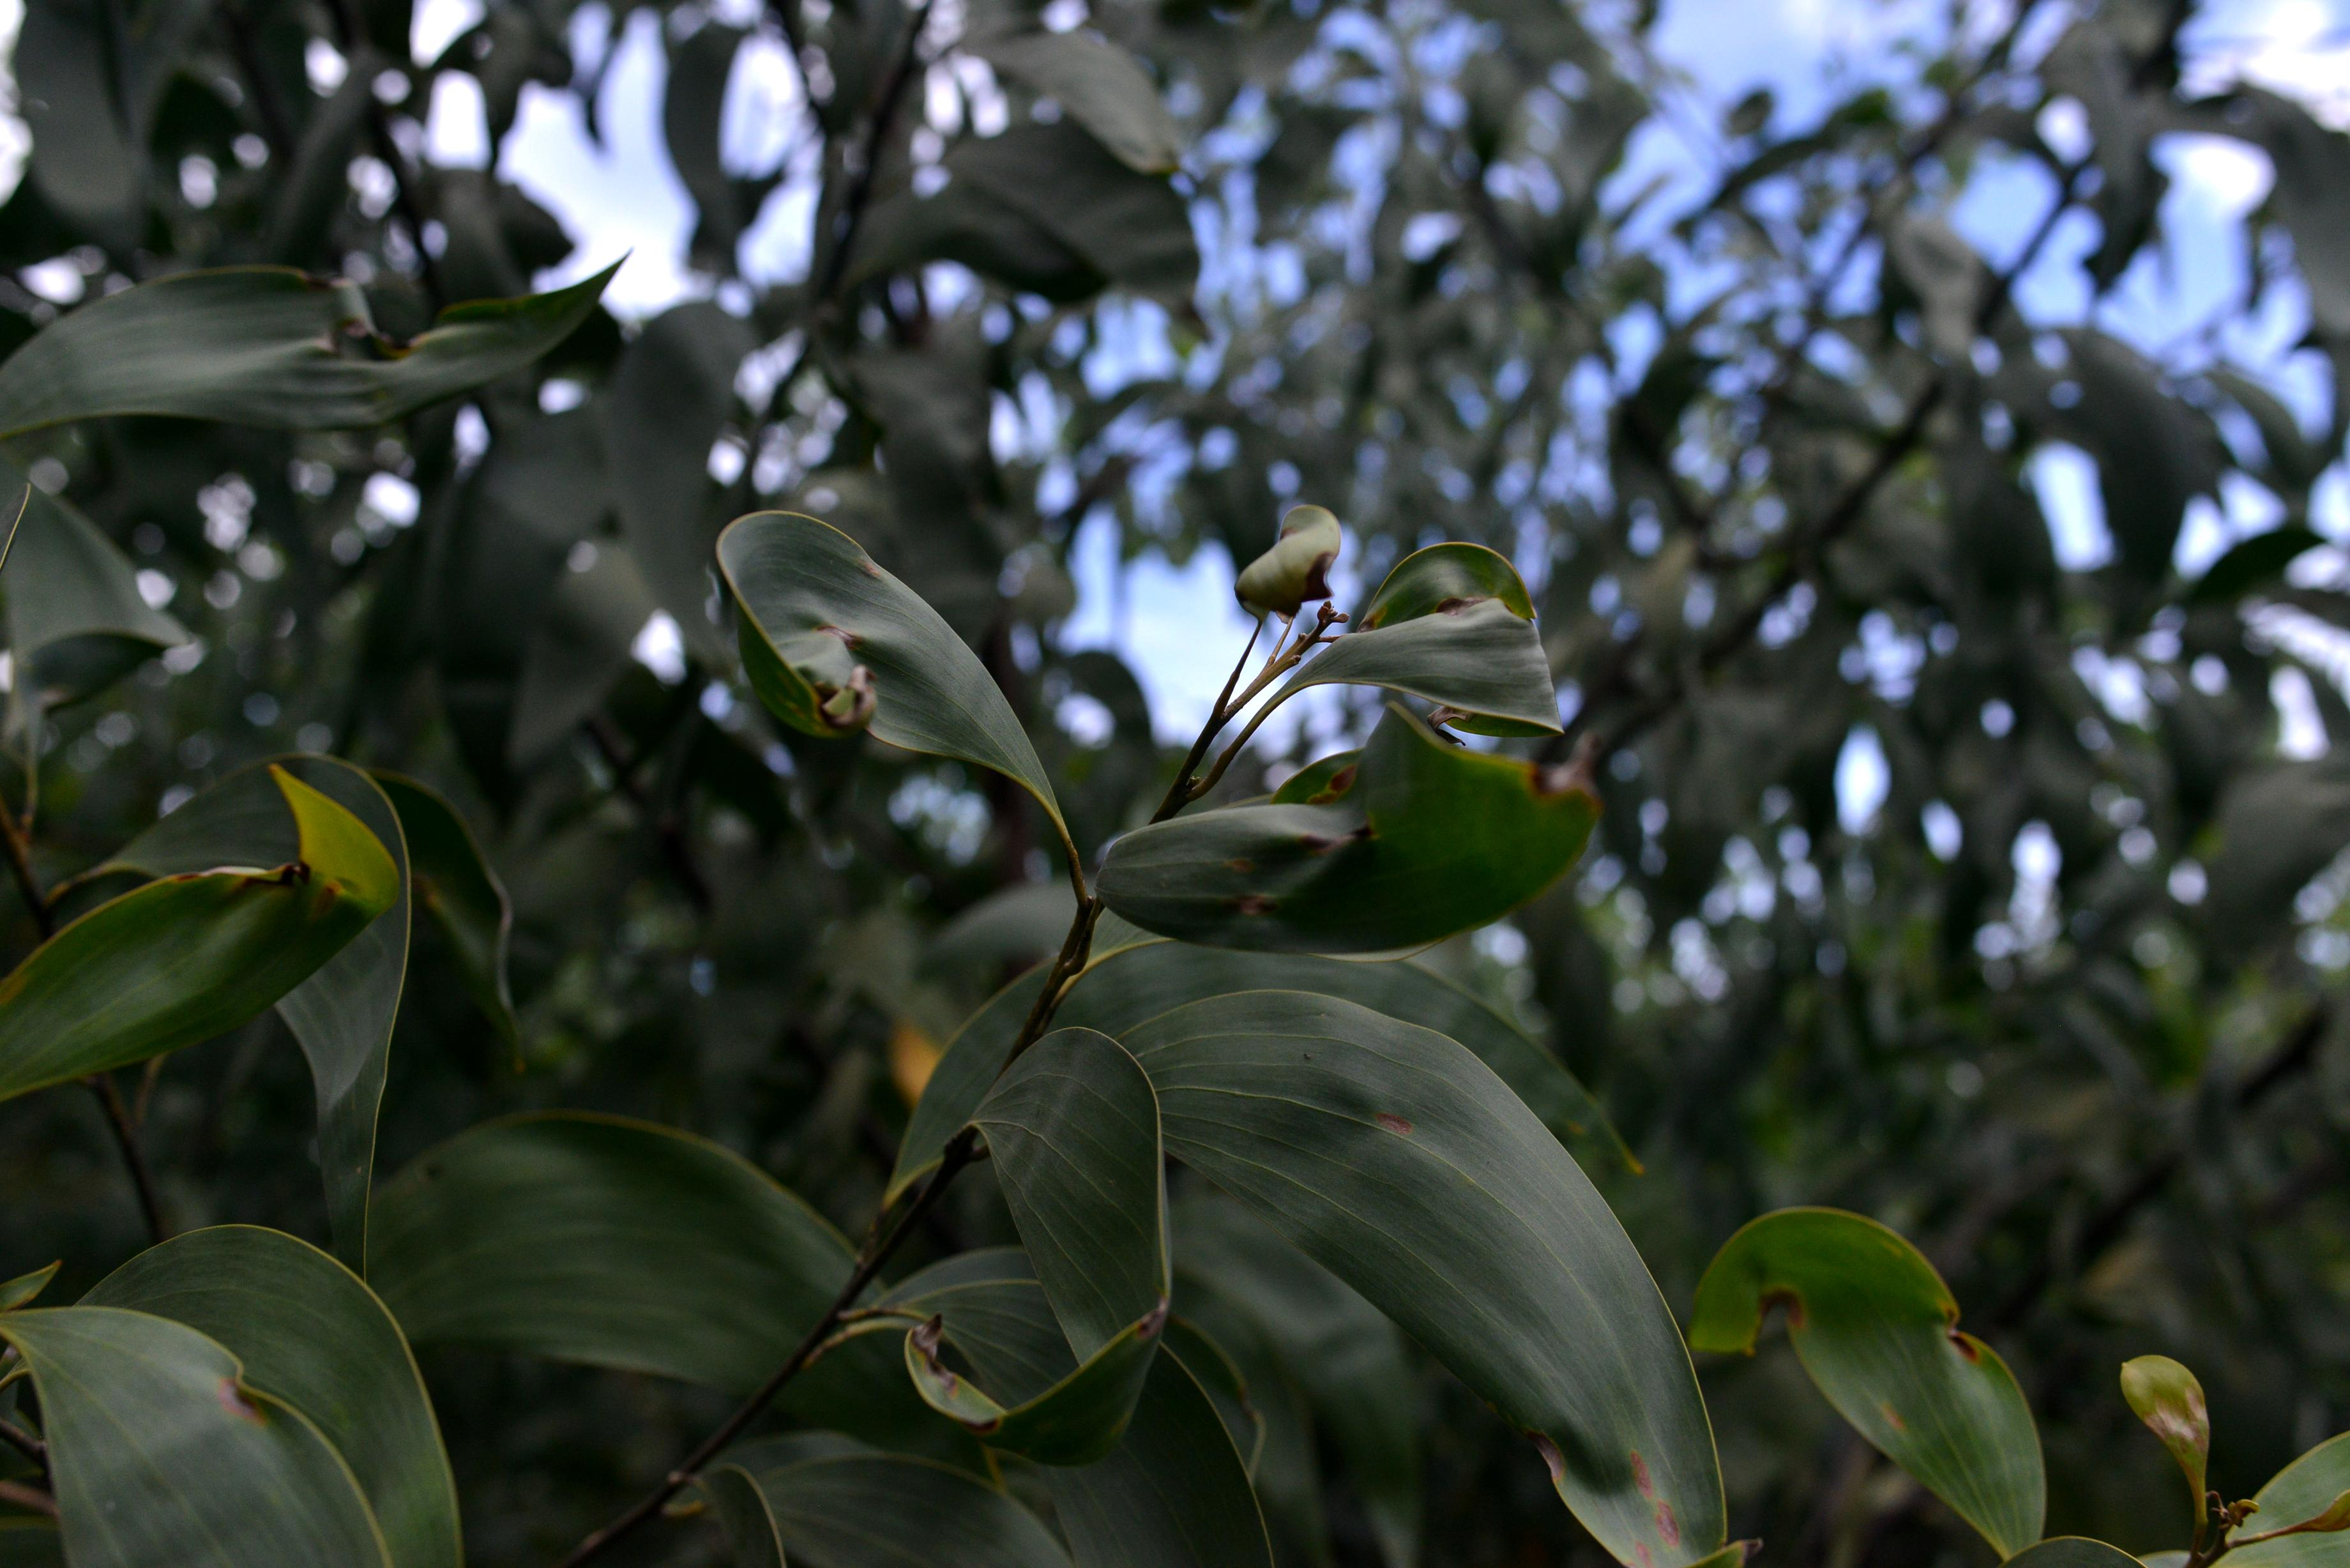Pasalora: (0, 1235, 464, 1568), (0, 751, 416, 1118), (709, 506, 1085, 863), (1696, 1195, 2046, 1559), (885, 1015, 1172, 1452), (0, 266, 653, 444), (1101, 780, 1601, 968), (1239, 507, 1573, 745), (2128, 1339, 2350, 1568)
